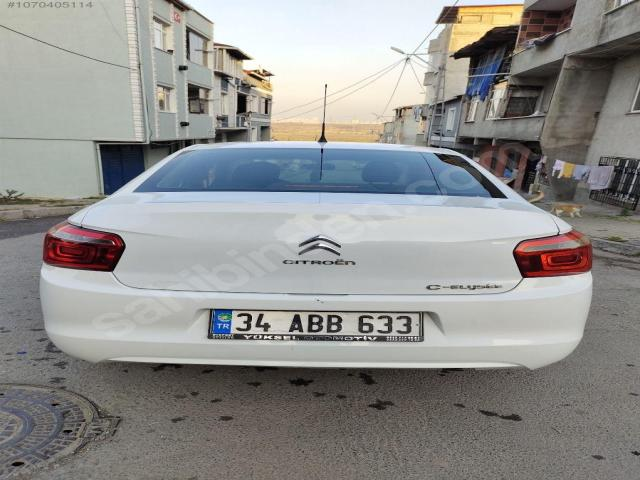plaka: (208, 309, 424, 342)
